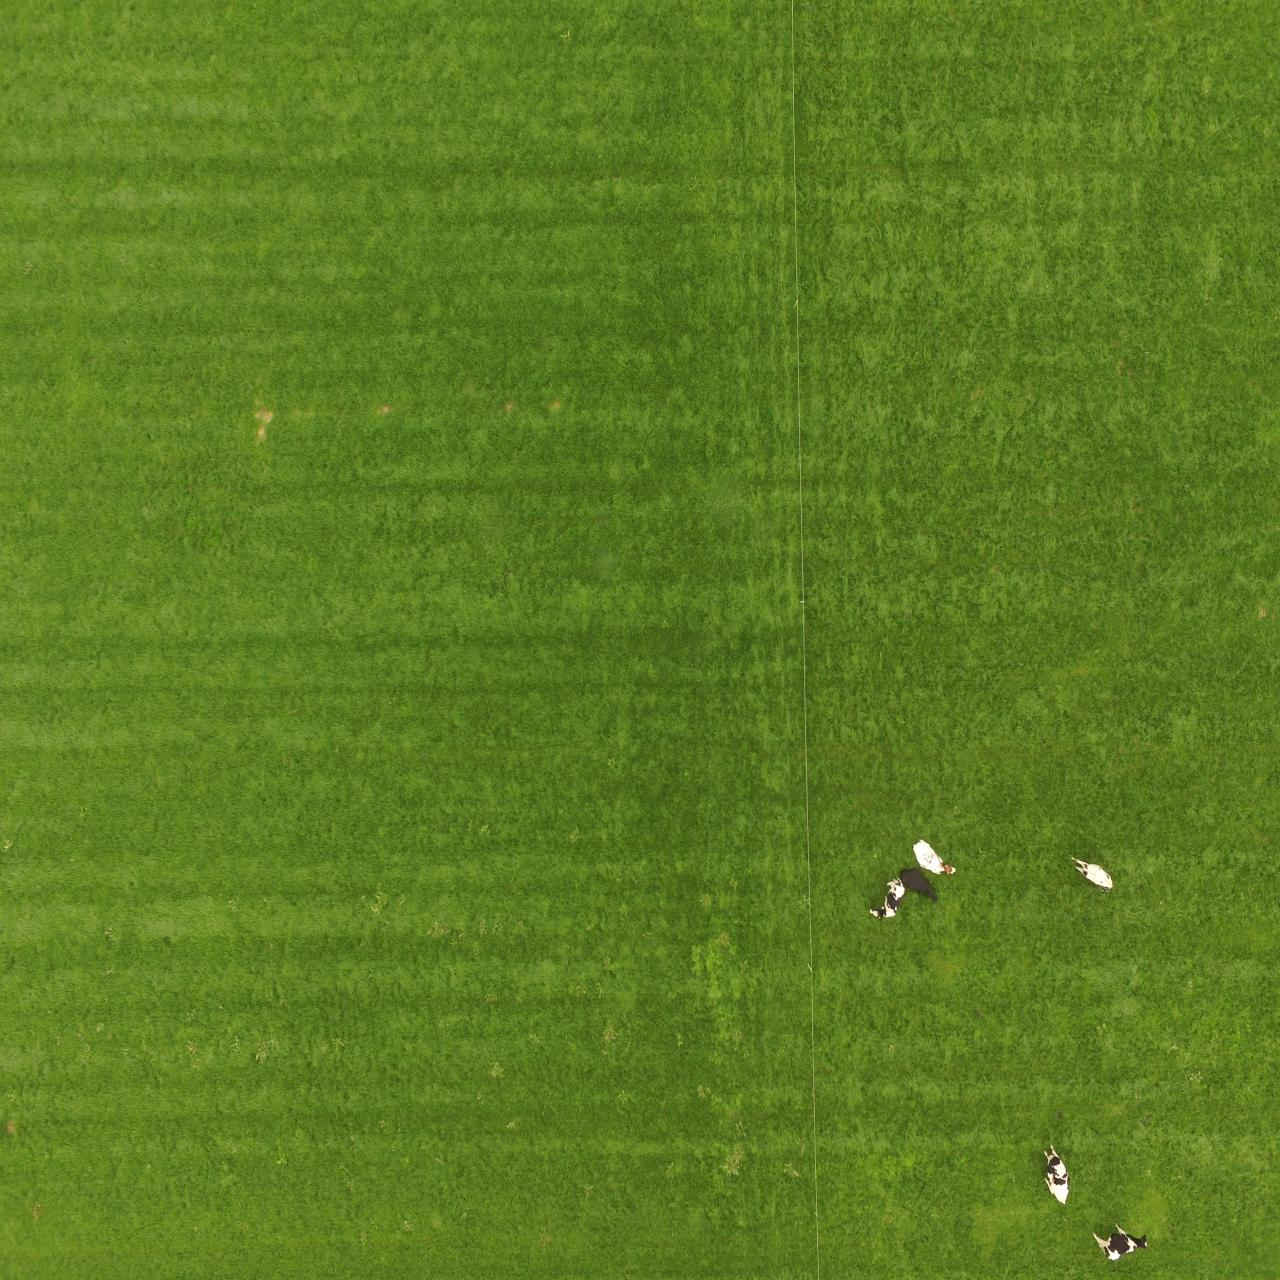cow: (1090, 1223, 1149, 1261), (1040, 1142, 1073, 1210), (1067, 853, 1115, 896), (911, 838, 959, 876), (870, 877, 907, 920), (901, 866, 938, 900)
